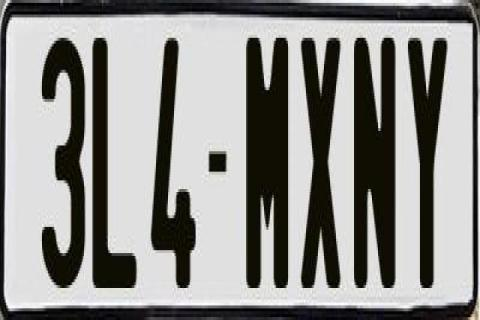0: (41, 32, 89, 300), (152, 38, 199, 302)
L: (92, 38, 142, 294)
M: (243, 35, 290, 294)
N: (350, 38, 392, 302)
X: (300, 29, 340, 297)
Y: (404, 38, 448, 288)
